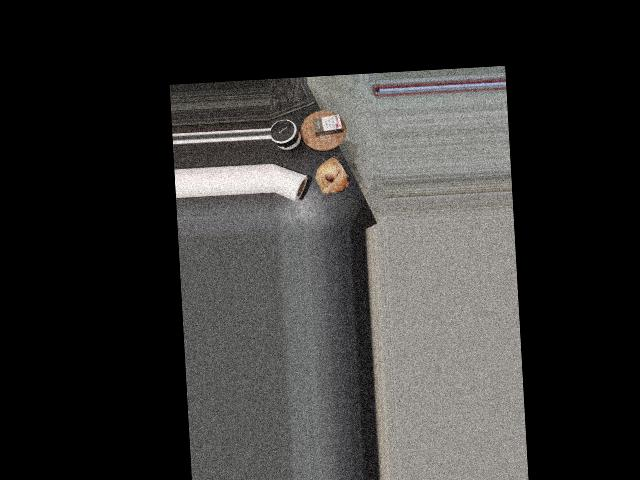onion: (313, 155, 351, 196)
